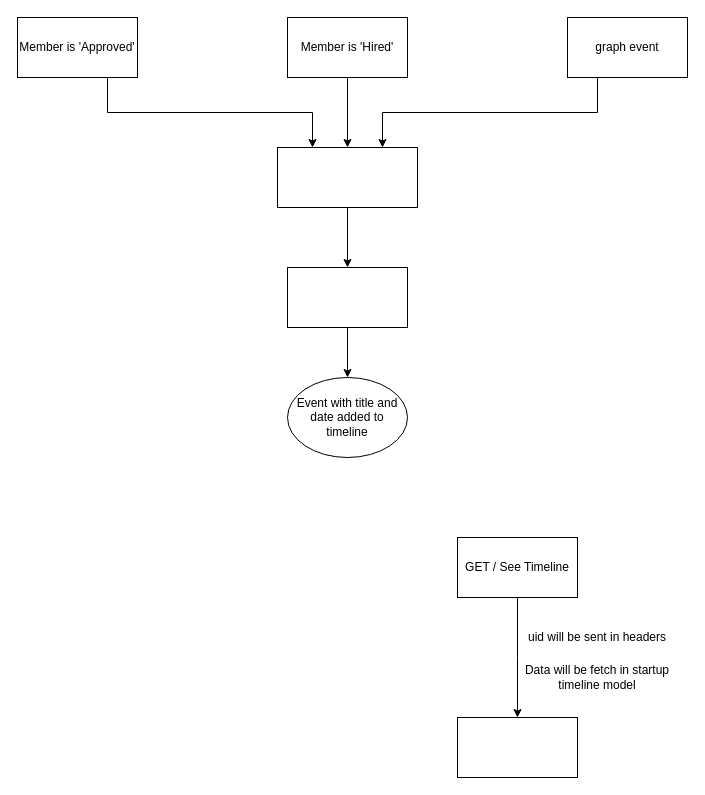
Image size: 705x795. Some labels were removed from this diagram. The centre of each missing label's shape, as x and y in pixels:
"Add Event to TImeline" belongs at point 347,177.
"Dynamic collection with uid will be created" belongs at point 347,297.
"Response will be JSON array of objects" belongs at point 517,747.
